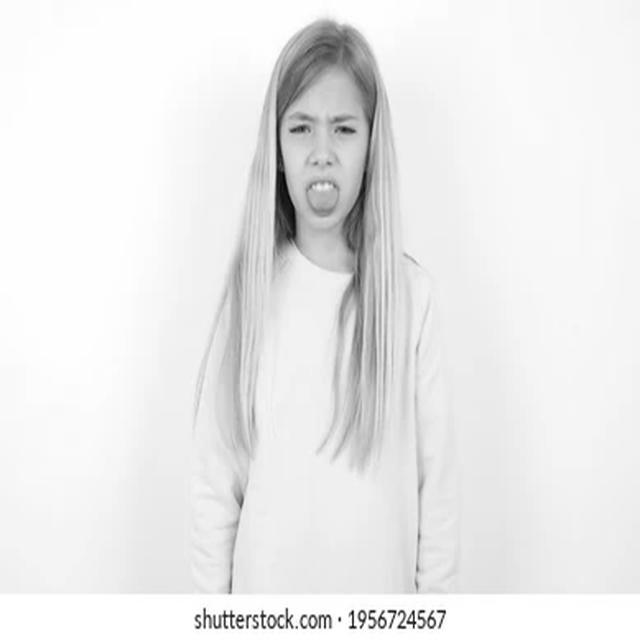Disgust: (280, 69, 369, 230)
